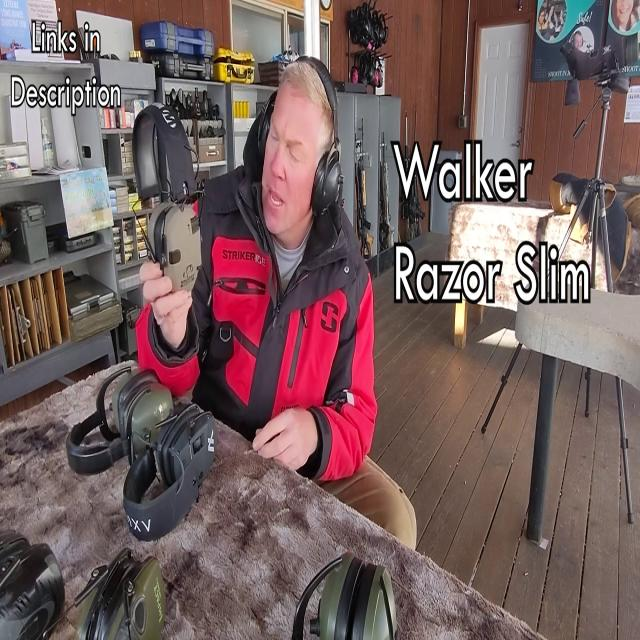earmuff: (153, 200, 201, 300), (309, 143, 346, 218), (139, 192, 171, 255), (252, 88, 276, 151)
